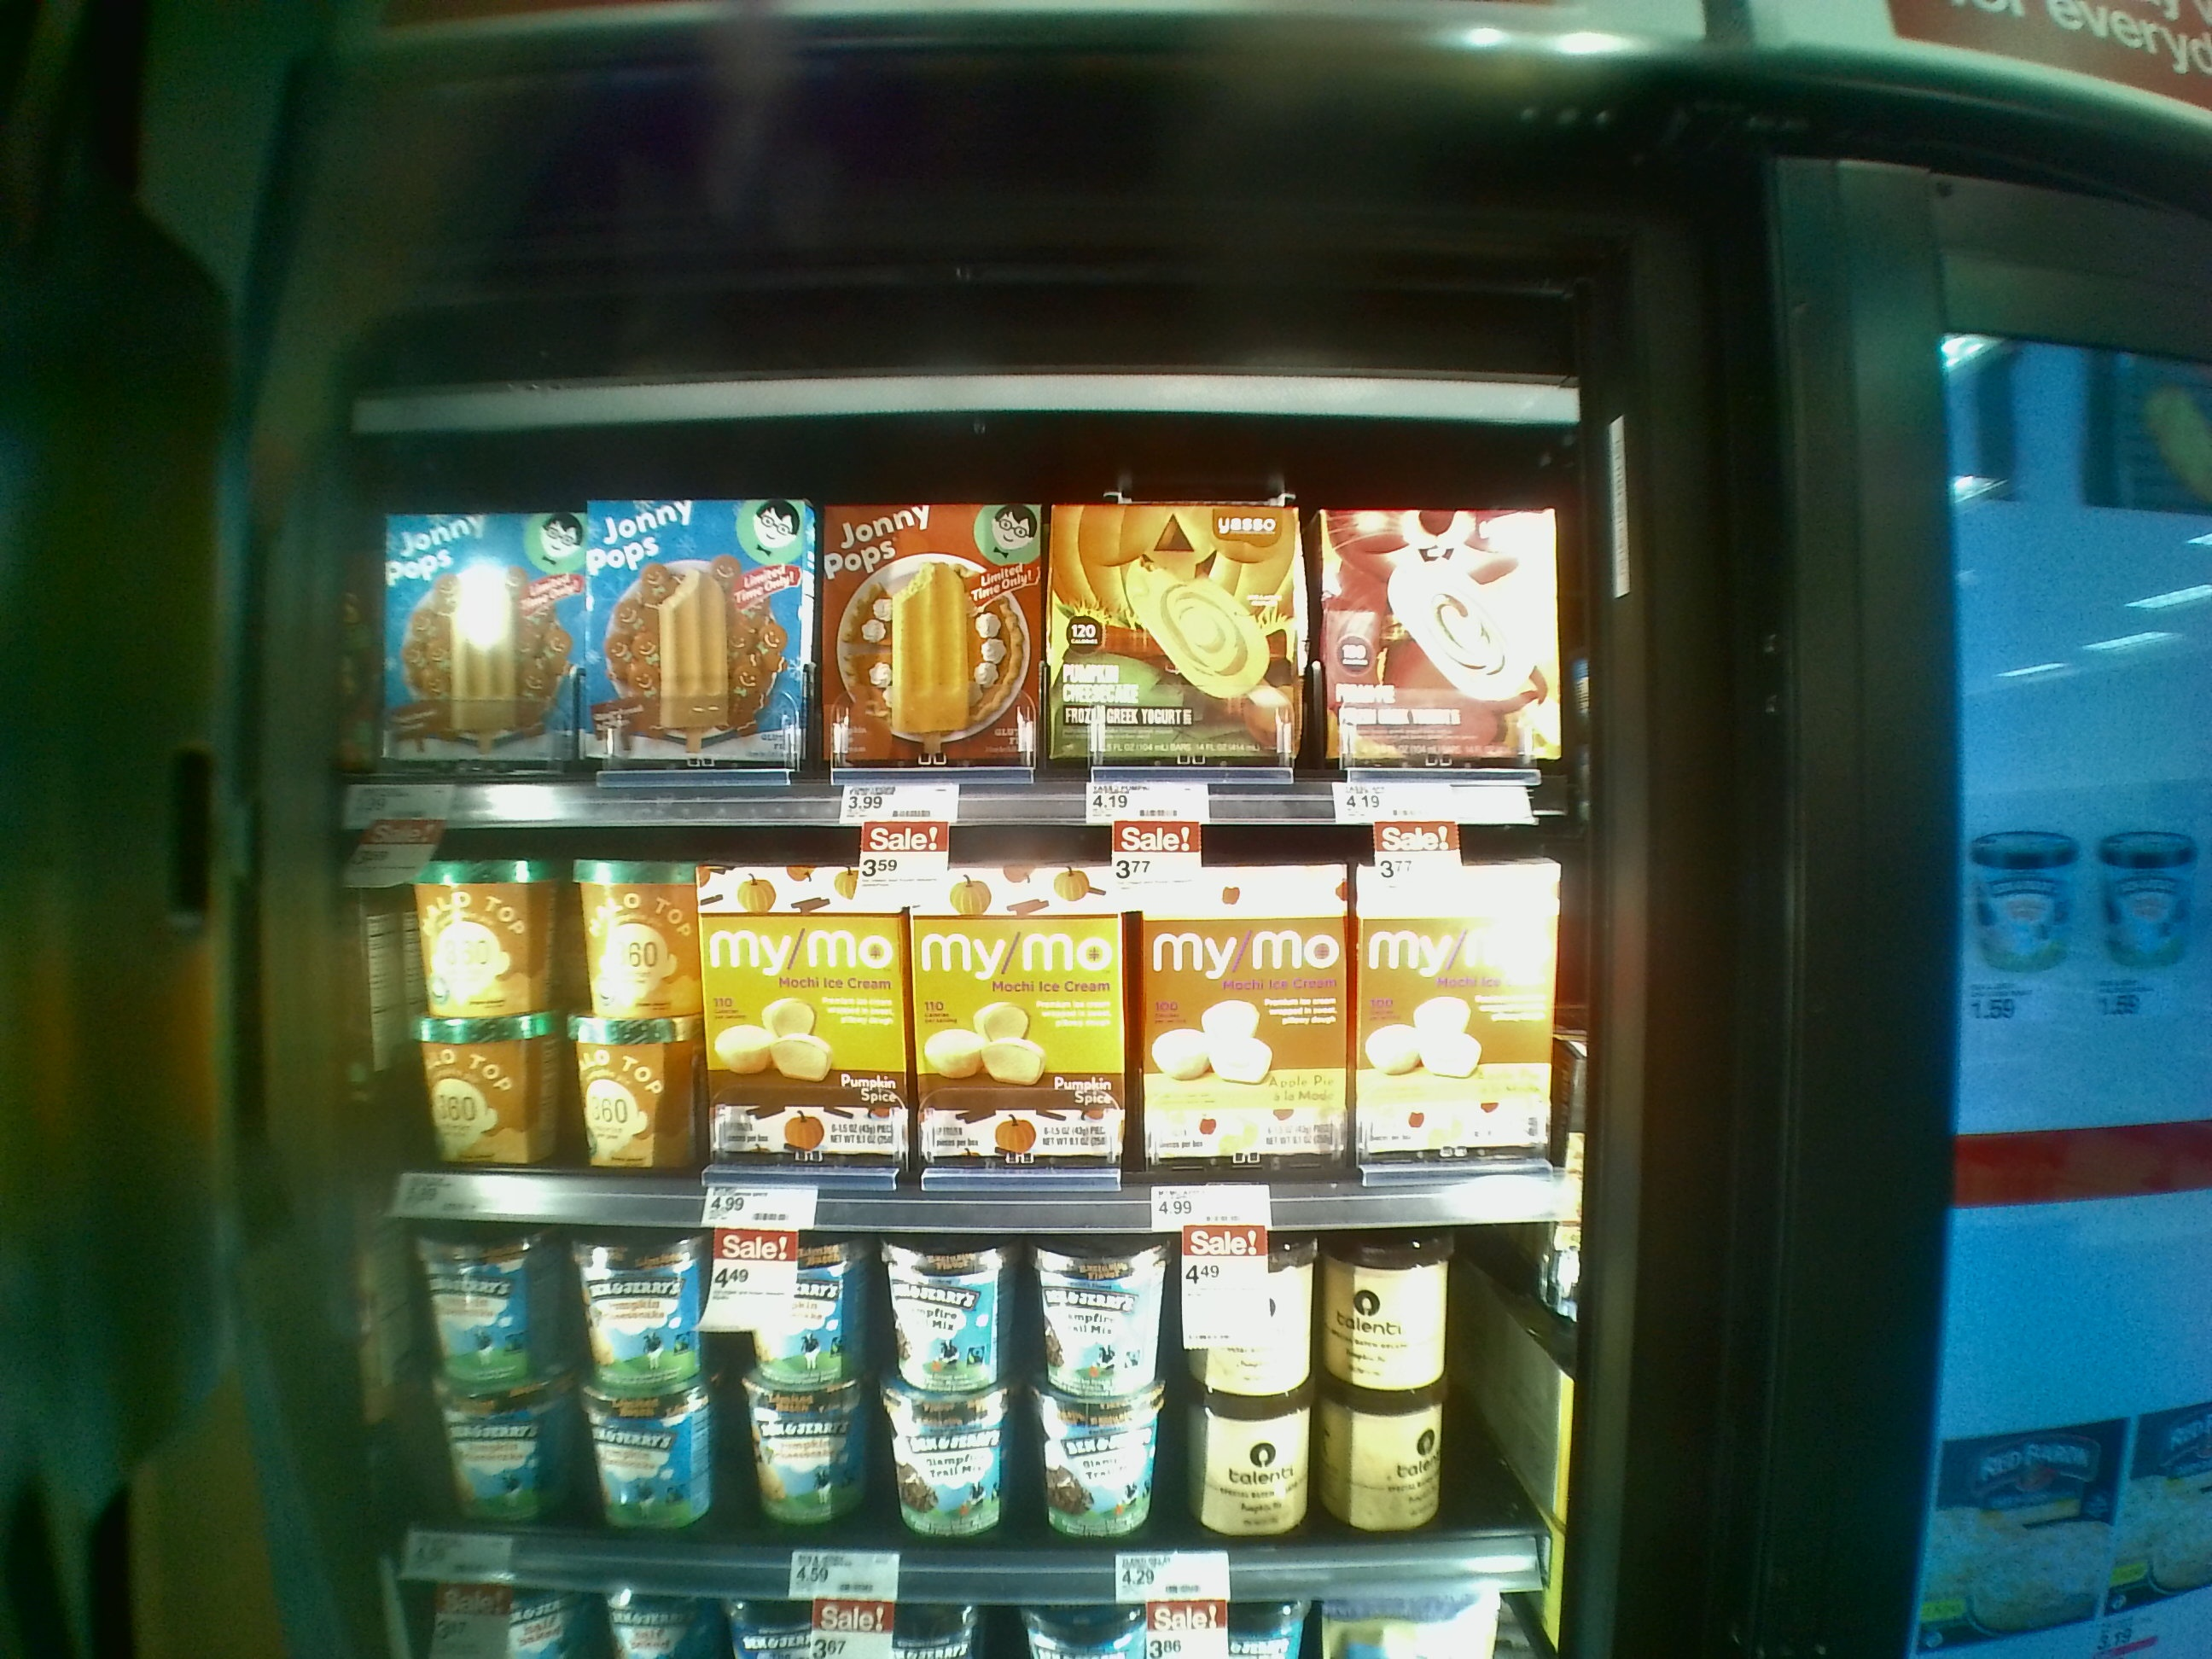shelf: (324, 788, 1578, 1230), (303, 1171, 1571, 1598), (334, 432, 1583, 833)
